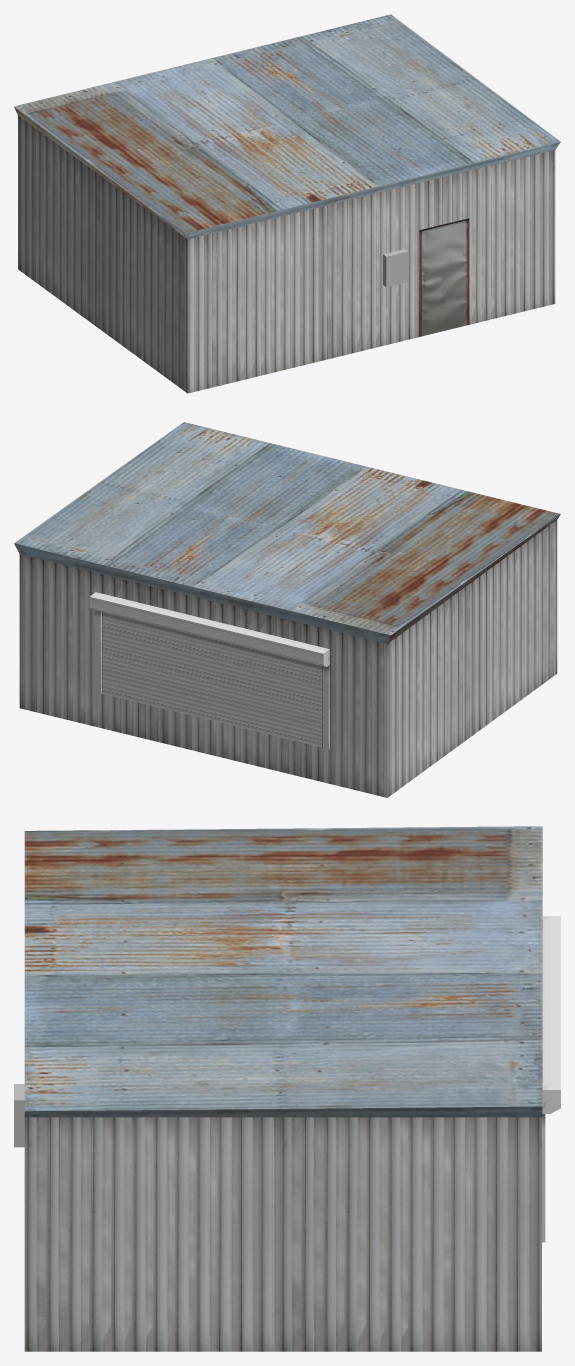
The model's file is kiosk1.fbx.
3 renders of one model, top to bottom at view 1: azimuth 30°, elevation 25°; view 2: azimuth 150°, elevation 25°; view 3: azimuth 270°, elevation 25°, orthographic. The views are drawn at different scales.
Visible parts, largest first — view 1: Cube, Cube.001; view 2: Cube; view 3: Cube, Cube.001.
Part boxes in pixels (bbox=[...]): Cube: bbox=[14, 14, 560, 393]; Cube.001: bbox=[383, 249, 408, 287]; Cube: bbox=[14, 422, 560, 797]; Cube: bbox=[24, 826, 560, 1351]; Cube.001: bbox=[14, 1084, 24, 1147].
Size of the model in its own units: 513 by 213 by 423.
